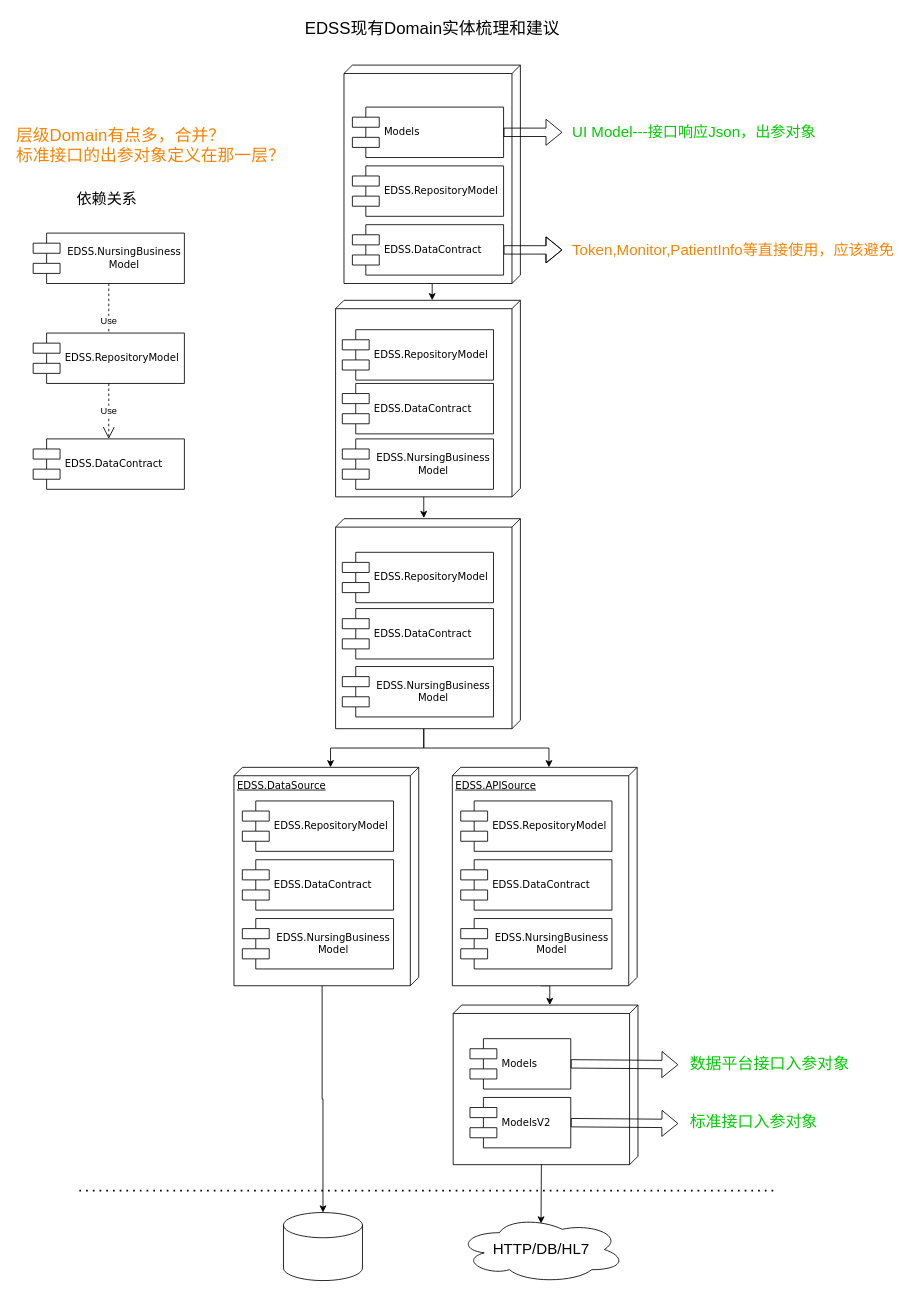
Some shapes in this 921 by 1298 pixel diagram are drawn without their labels. Each missing label, with the box of its shape:
EDSS DB: (283, 1212, 362, 1281)
EDSS.Business: (335, 299, 520, 497)
EDSS.DataPlatform: (452, 1004, 638, 1165)
EDSS.Repositories: (335, 518, 520, 729)
EDSS.Triage/Nursing/Doctor: (343, 64, 520, 284)
